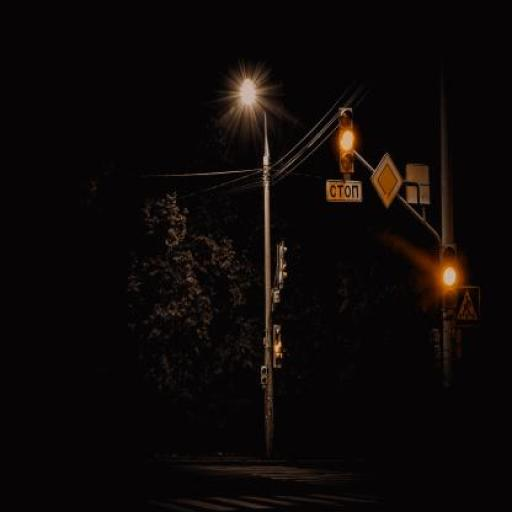street light: (239, 79, 276, 459)
